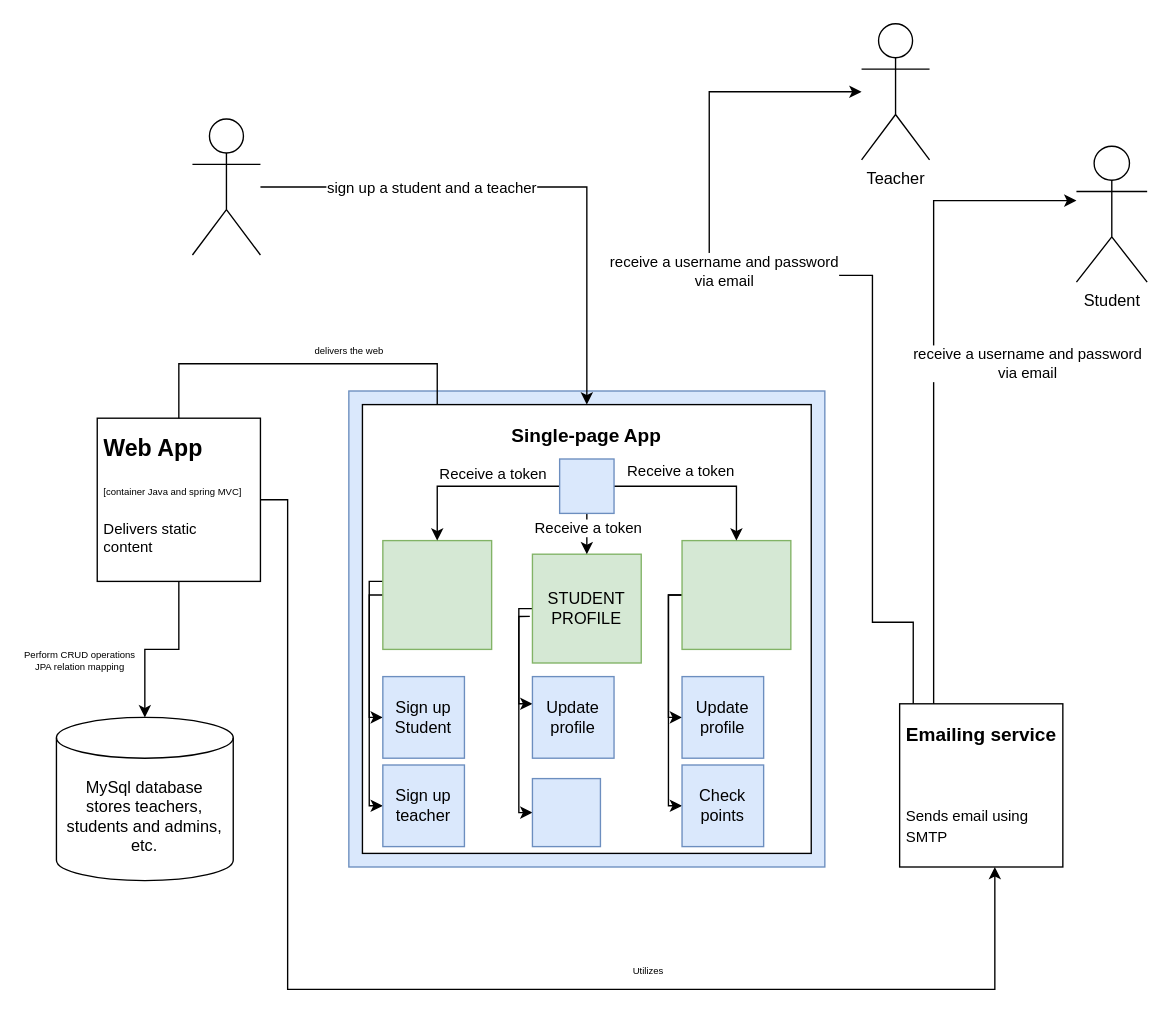
Some shapes in this 1171 by 1024 pixel diagram are drawn without their labels. Each missing label, with the centre of its shape:
Admin: point (225, 186)
ADMIN PROFILE: point (436, 594)
LOGIN: point (586, 485)
Search teachers: point (565, 812)
TEACHER PROFILE: point (736, 594)
